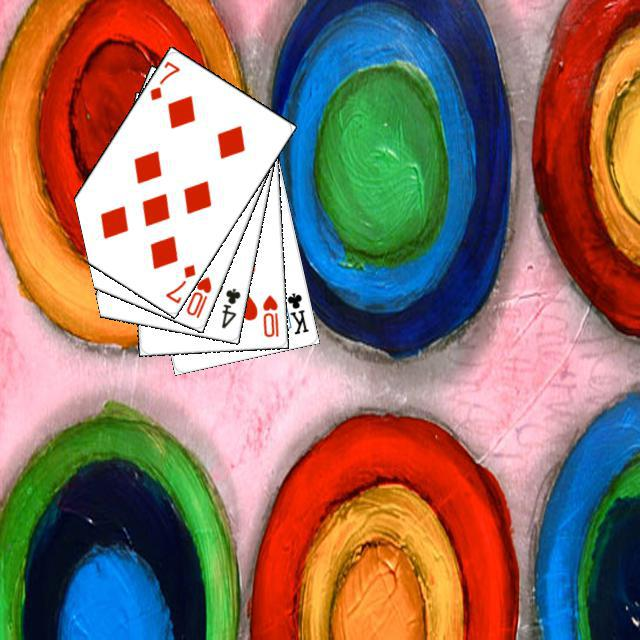10h: (181, 271, 213, 320), (258, 290, 280, 339)
4c: (217, 283, 242, 330)
7d: (160, 259, 198, 305), (145, 57, 182, 102)
Kc: (277, 285, 311, 336)
